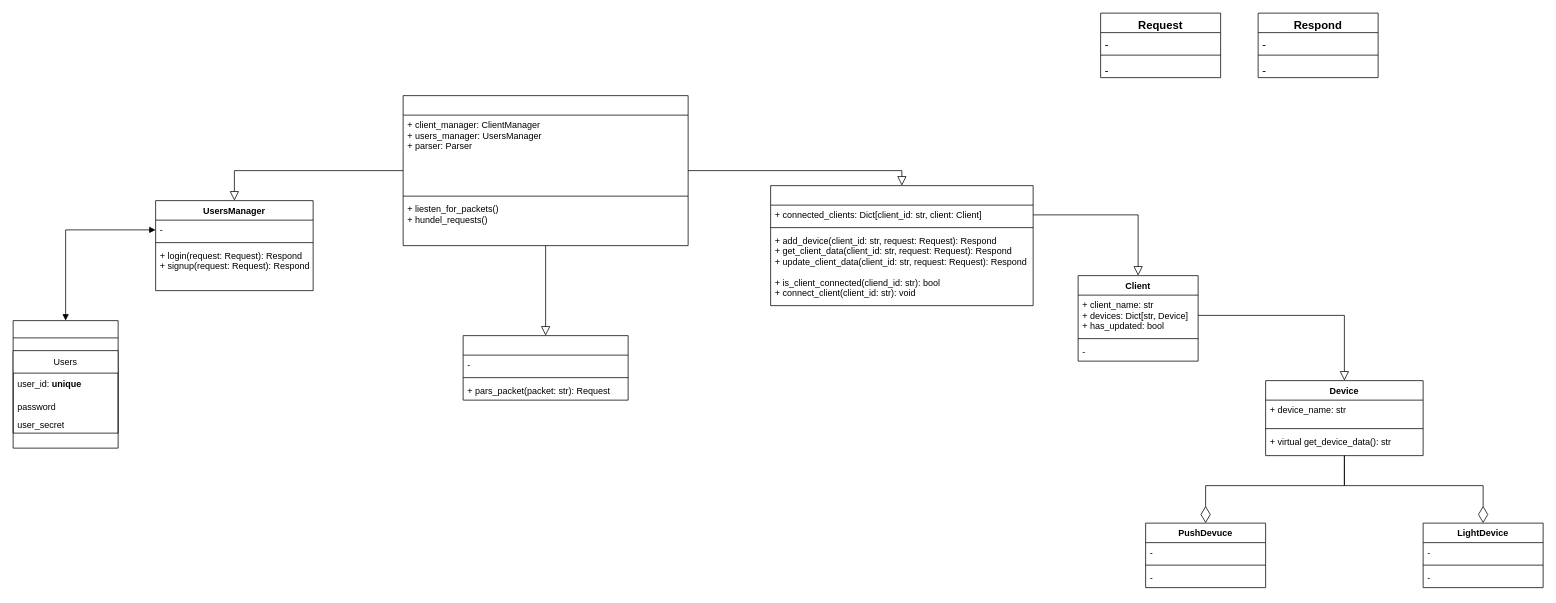
The diagram is 1556 pixels wide and 603 high, and some of its shapes have lost their labels. The box of each missing label's shape, as (x1, y1, x2, y2) in pixels:
ClientManager: (770, 185, 1033, 306)
Mongo db: (12, 320, 118, 448)
Parser: (462, 335, 628, 400)
Server: (402, 95, 688, 246)
